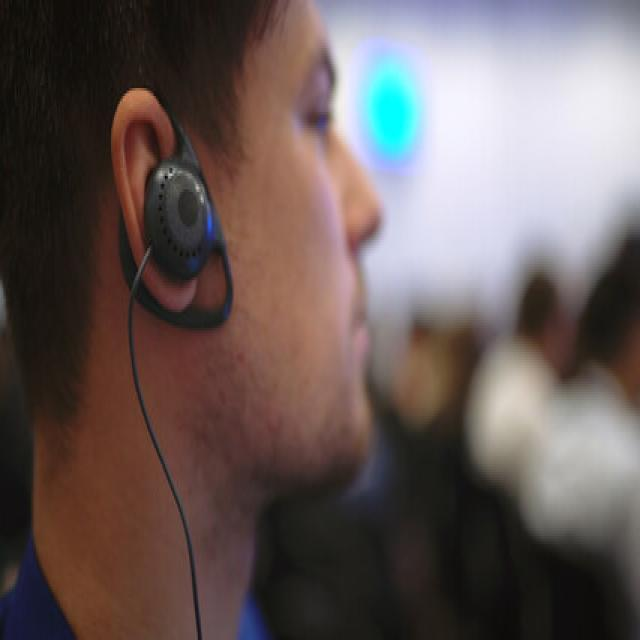Earphone: (114, 93, 234, 640)
